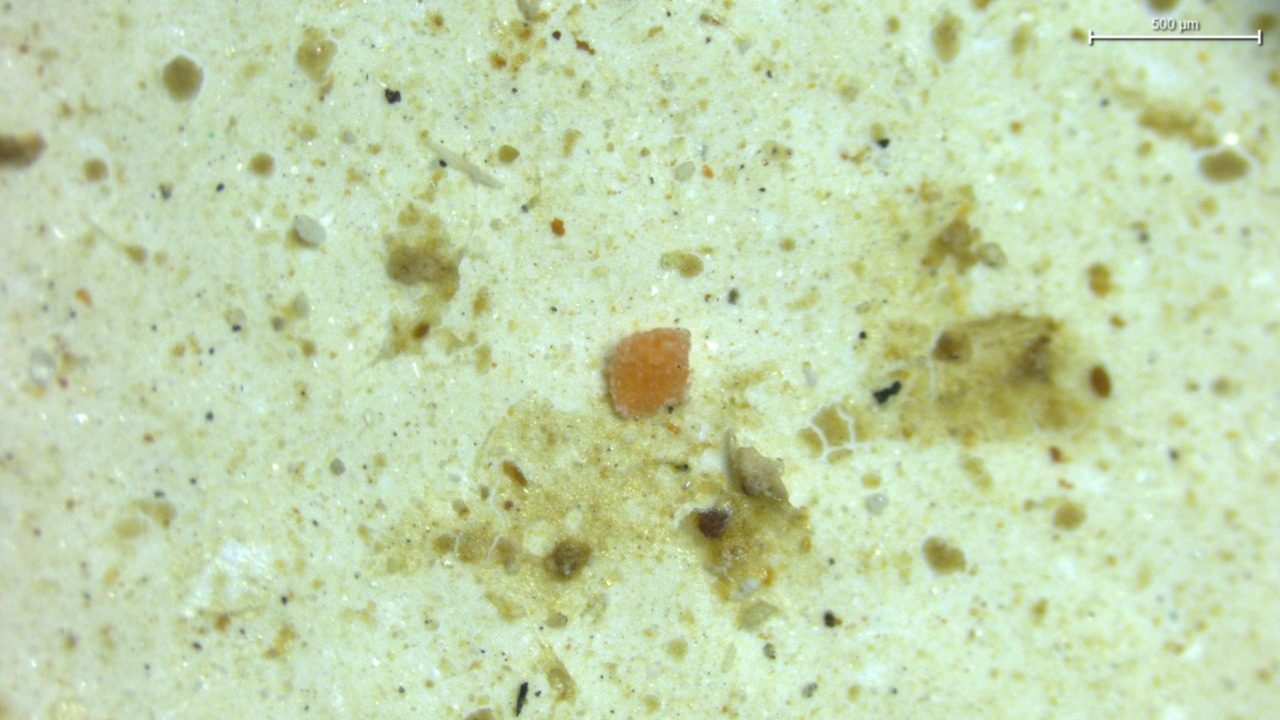microplastic_fragment: (608, 328, 690, 418), (293, 215, 326, 246)
